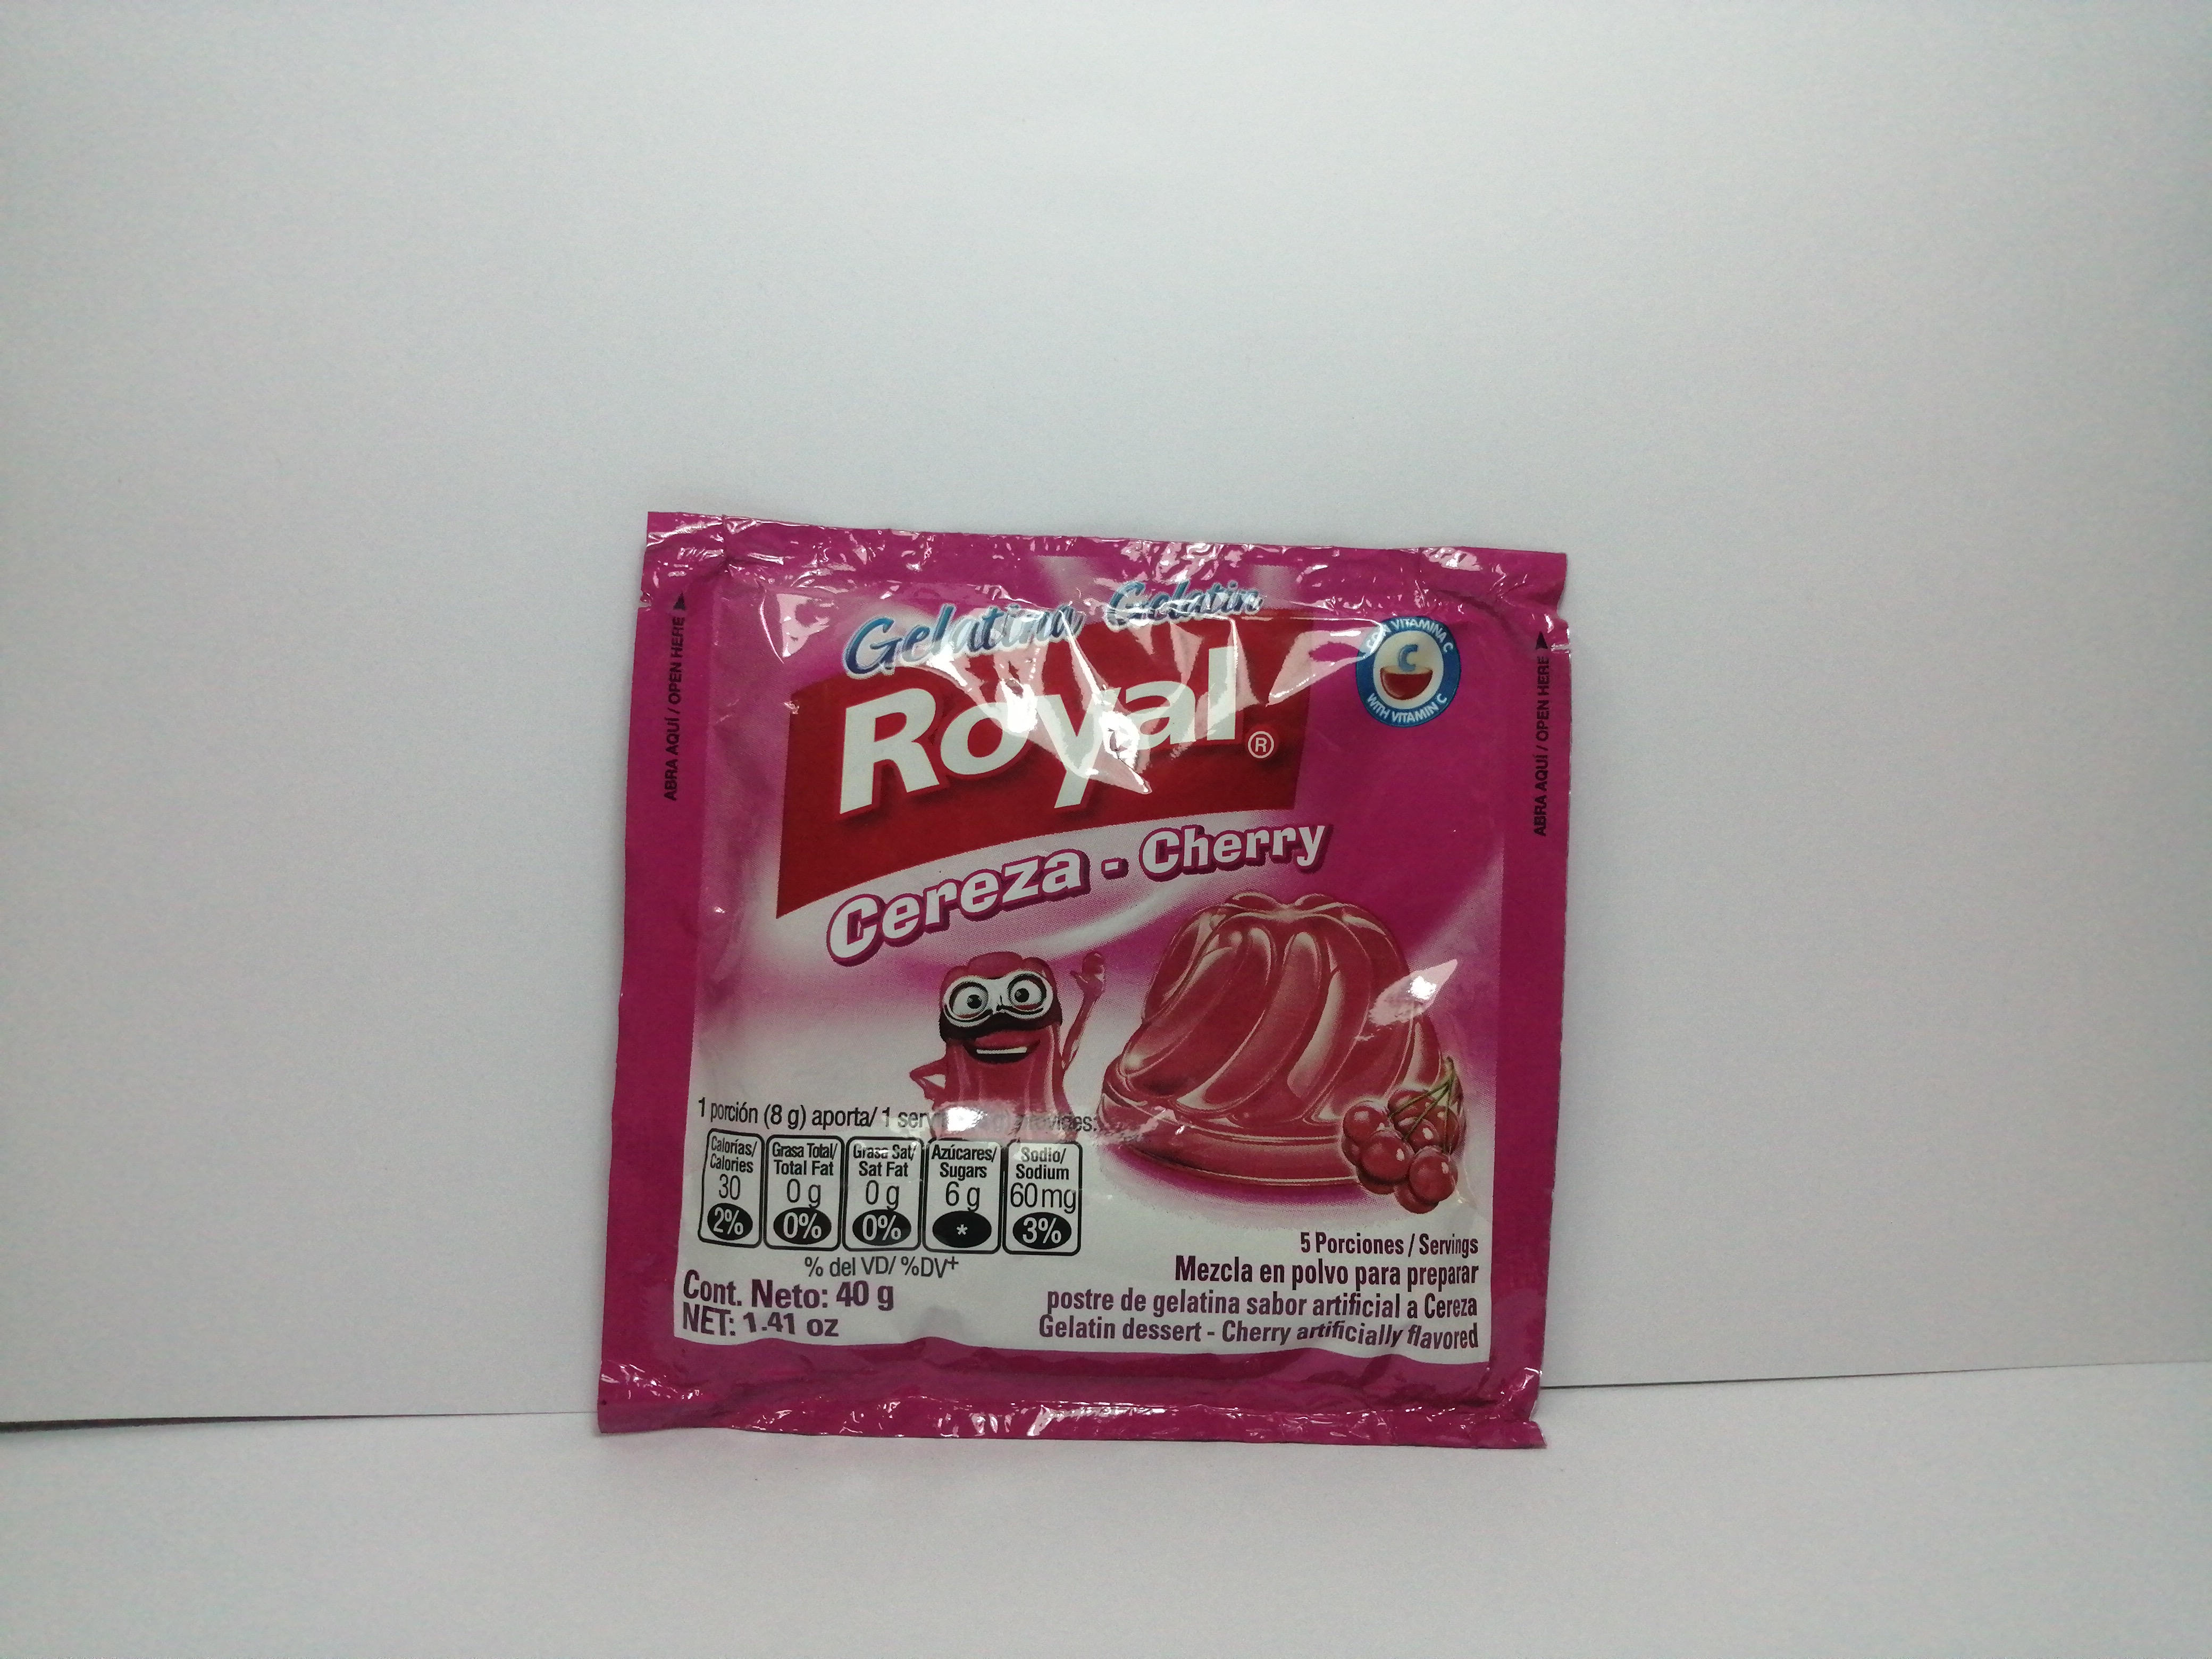gelatina: (611, 511, 1569, 1455)
